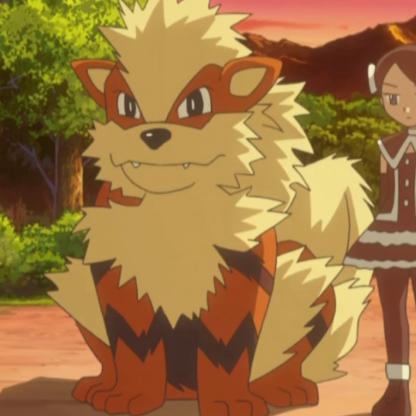Arcanine: (52, 1, 378, 416)
